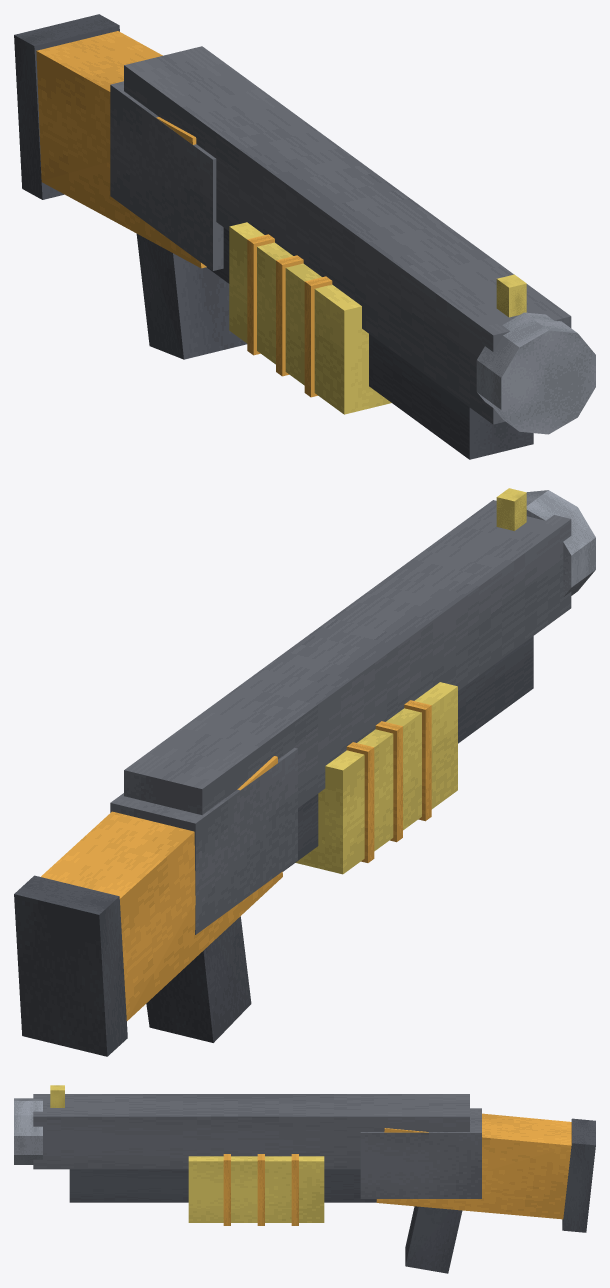
Rendered from weapon_shotgun.glb.
3 renders of one model, top to bottom at view 1: azimuth 30°, elevation 25°; view 2: azimuth 150°, elevation 25°; view 3: azimuth 270°, elevation 25°, orthographic. The views are drawn at different scales.
Parts seen in each view (by area): view 1: weapon_shotgun; view 2: weapon_shotgun; view 3: weapon_shotgun.
Part boxes in pixels (x1=…): weapon_shotgun: x1=14, y1=14, x2=595, y2=459; weapon_shotgun: x1=14, y1=488, x2=595, y2=1056; weapon_shotgun: x1=14, y1=1085, x2=595, y2=1273.
Bounding box in the file's own units: 0.34 × 0.8041 × 2.4.
1 material, 1 textured.
